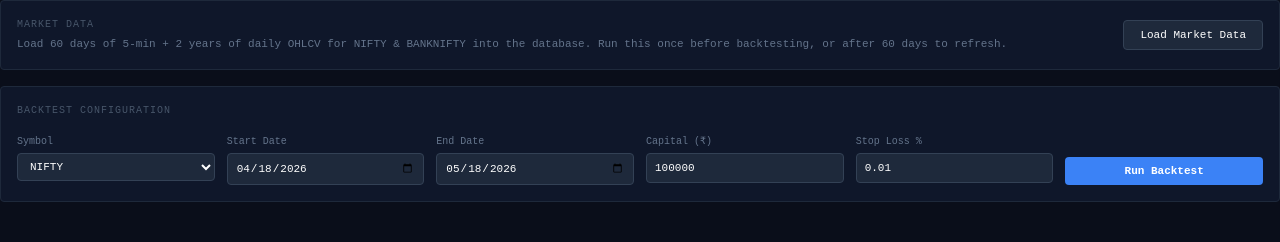
Scenario: BacktestTab › shows error detail when Load Market Data returns 0 rows with error
Step 1. Click the button "Load Market Data" → point(1193, 35), box [1123,20,1263,50]
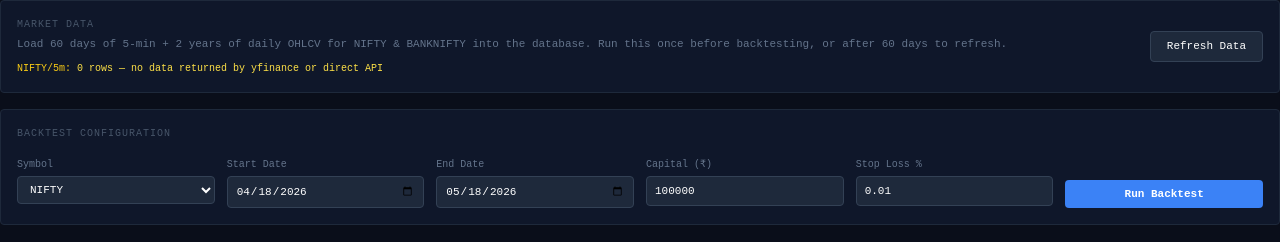
Expected: the text "0 rows — no data returned by yfinance or direct API" is shown, [77,62,383,74]
